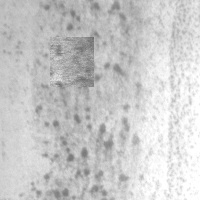pitted_surface: (35, 3, 138, 198), (168, 1, 198, 185)
rolled-in_scale: (50, 37, 94, 87)
